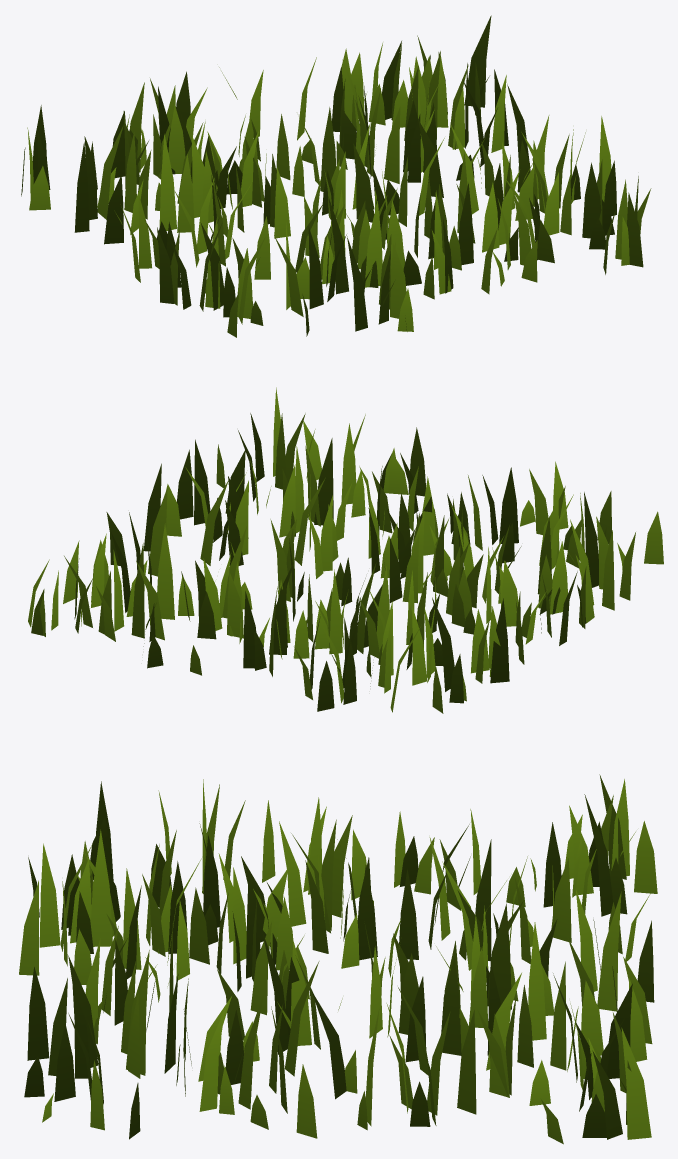
File: lawn.glb
3 renders of one model, top to bottom at view 1: azimuth 30°, elevation 25°; view 2: azimuth 150°, elevation 25°; view 3: azimuth 270°, elevation 25°, orthographic. The views are drawn at different scales.
Visible parts, largest first — view 1: tile side=0.50000; view 2: tile side=0.50000; view 3: tile side=0.50000.
Boxes of the visible parts, x1,y1,x2,y2 form: tile side=0.50000: [21, 15, 651, 337]; tile side=0.50000: [28, 387, 663, 713]; tile side=0.50000: [19, 774, 657, 1144].
Bounding box in the file's own units: 0.5388 × 0.097 × 0.5174.
